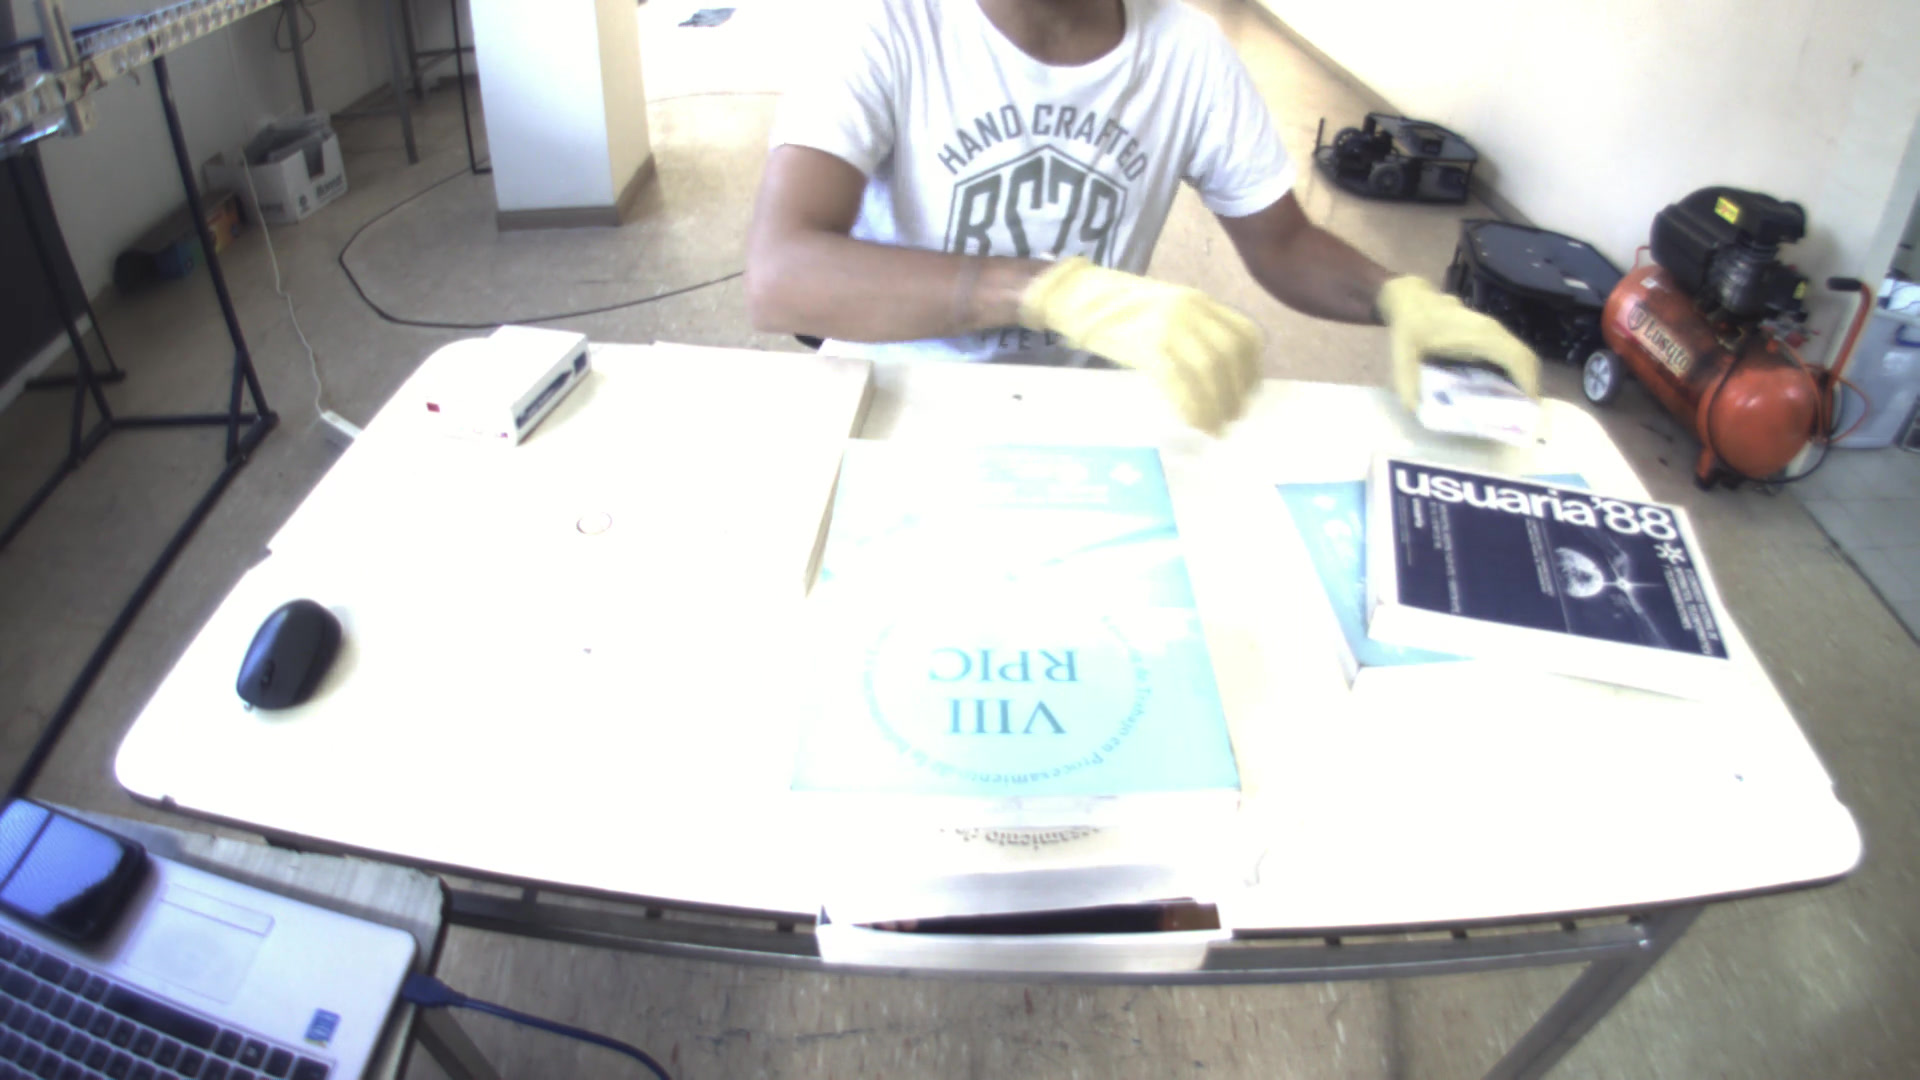hand: (1010, 233, 1276, 436), (1374, 262, 1551, 404)
